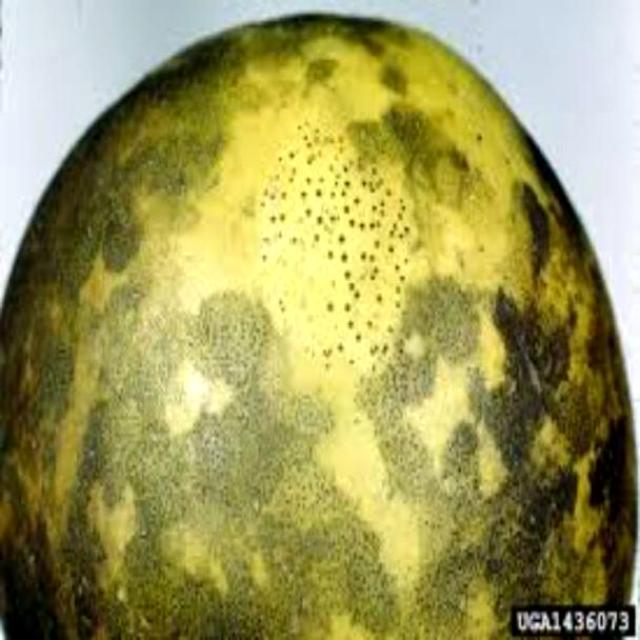BLOTCH: (12, 20, 636, 622)
